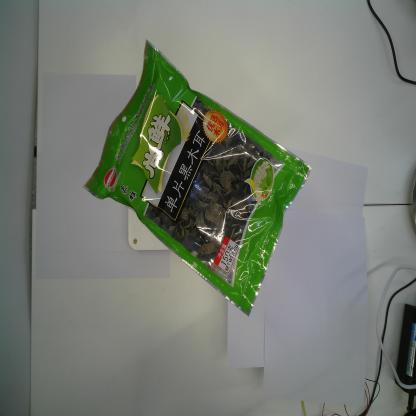Dried Food: (80, 36, 313, 319)
